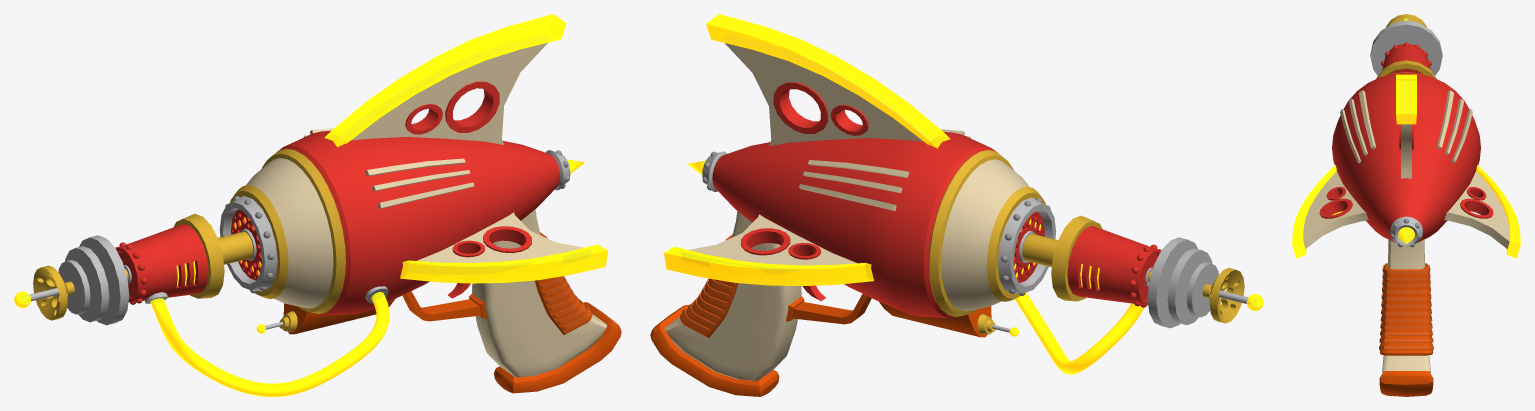
The model's file is blaster light.fbx.
3 views of the same model, side by side, from view 1: azimuth 30°, elevation 25°; view 2: azimuth 150°, elevation 25°; view 3: azimuth 270°, elevation 25° (orthographic). The views are drawn at different scales.
Visible parts, largest first — view 1: Circle.011, Plane, Plane.003, Plane.001, Circle.004, Circle.006, Plane.004, NurbsPath, Circle.002, Plane.008, Plane.002, Circle.028 (+10 smaller); view 2: Circle.011, Plane, Plane.003, Plane.001, Circle.004, Circle.006, Plane.004, Circle.002, Plane.008, NurbsPath, Plane.002, Circle.028 (+10 smaller); view 3: Circle.011, Plane.002, Plane.007, Plane.006, Circle.006, Circle.028, Plane.004, Plane, Plane.011, Plane.008, Plane.003, Circle.004 (+4 smaller).
Boxes of the visible parts, x1,y1,x2,y2 form: Circle.011: (230,130,584,315); Plane: (472,209,606,377); Plane.003: (324,14,566,147); Plane.001: (351,43,547,144); Circle.004: (116,223,208,302); Circle.006: (58,235,129,325); Plane.004: (400,244,608,283); NurbsPath: (150,292,389,396); Circle.002: (219,196,277,291); Plane.008: (494,302,621,393); Plane.002: (417,212,583,262); Circle.028: (303,128,474,209); Circle.011: (688,132,1045,318); Plane: (665,211,801,380); Plane.003: (706,14,950,148); Plane.001: (725,43,923,146); Circle.004: (1067,225,1160,305); Circle.006: (1147,237,1218,328); Plane.004: (664,246,873,286); Circle.002: (997,197,1056,293); Plane.008: (650,305,779,396); NurbsPath: (1015,292,1143,374); Plane.002: (689,214,856,265); Circle.028: (799,129,971,210); Circle.011: (1332,72,1480,243); Plane.002: (1303,171,1509,248); Plane.007: (1379,265,1433,349); Plane.006: (1380,263,1432,355); Circle.006: (1370,20,1442,75); Circle.028: (1340,90,1472,163); Plane.004: (1292,165,1520,258); Plane: (1382,239,1430,372); Plane.011: (1319,187,1493,218); Plane.008: (1379,371,1433,396); Plane.003: (1396,74,1416,124); Circle.004: (1382,44,1430,69).
Size of the model in its own units: 1518 by 883 by 635.
